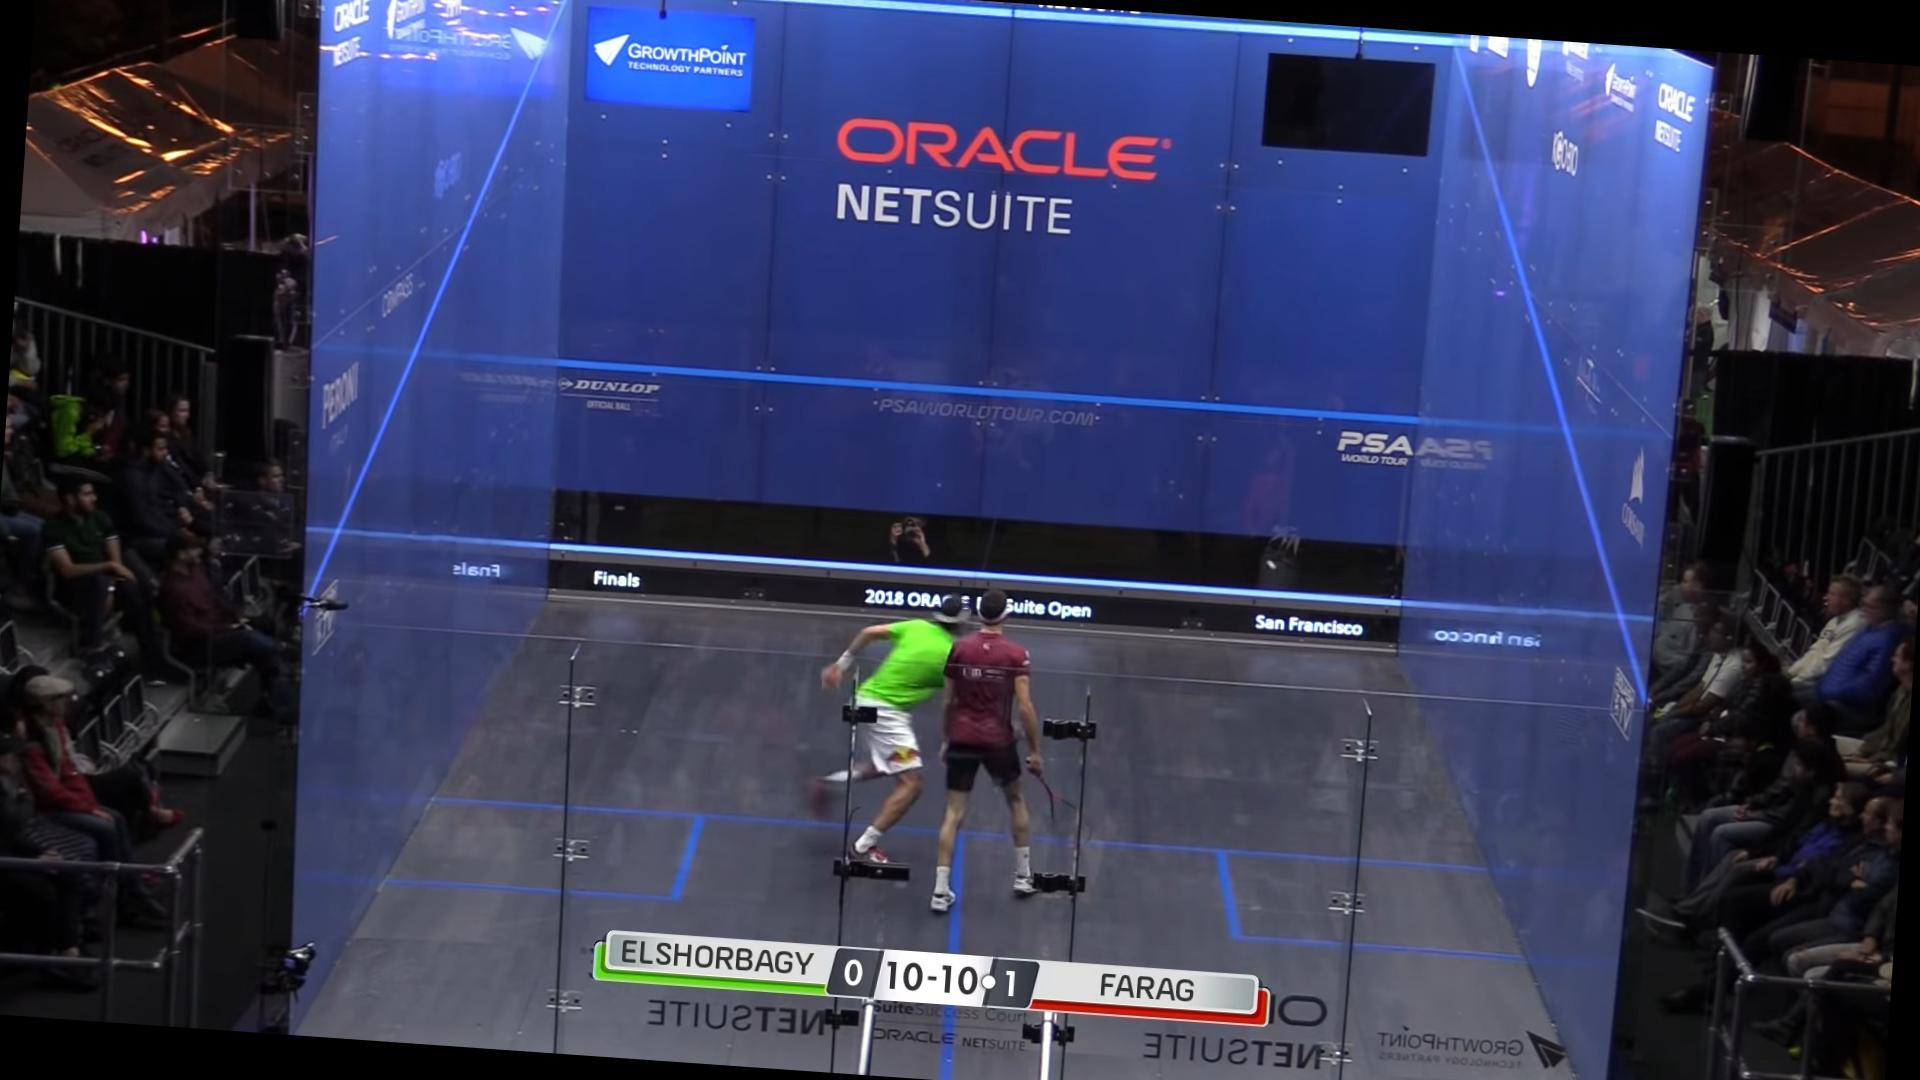Squash-Ball: (1265, 554, 1280, 579)
